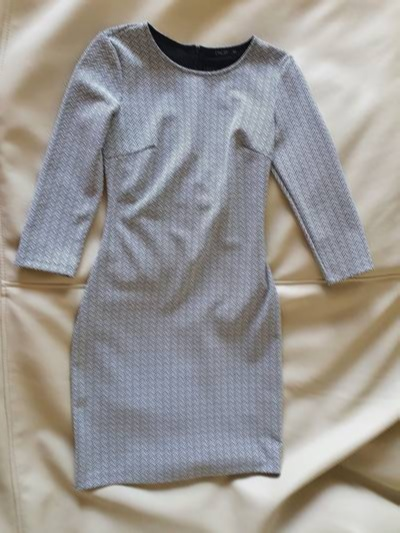Dress: (19, 16, 388, 490)
